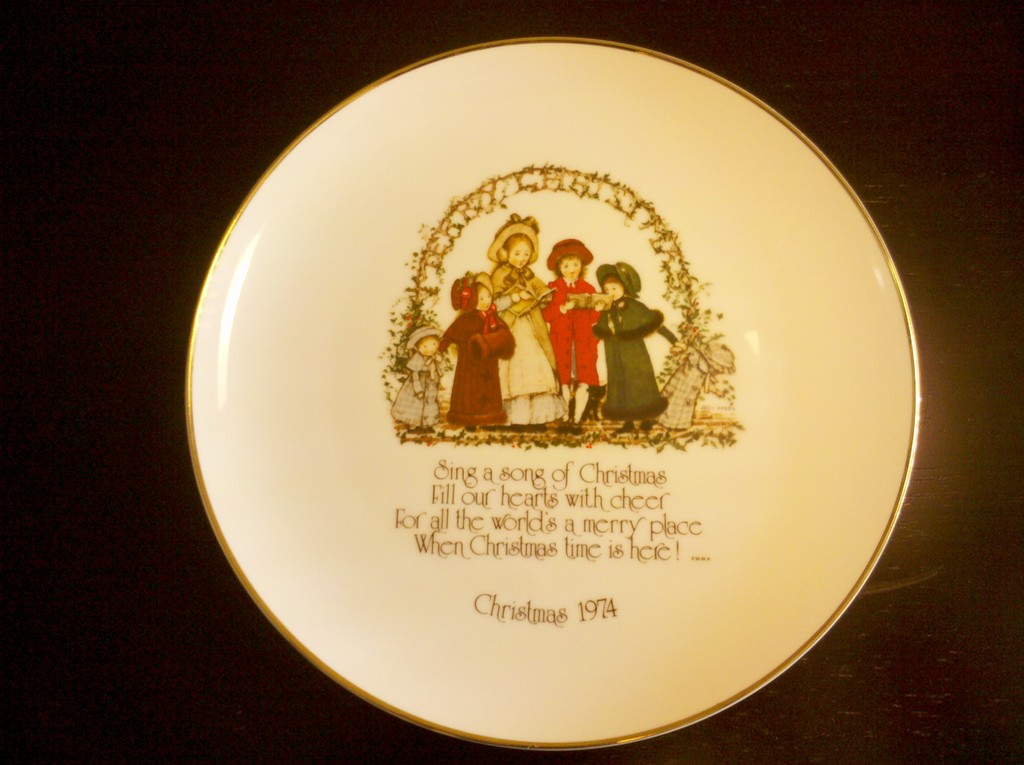plate: (188, 25, 916, 764)
